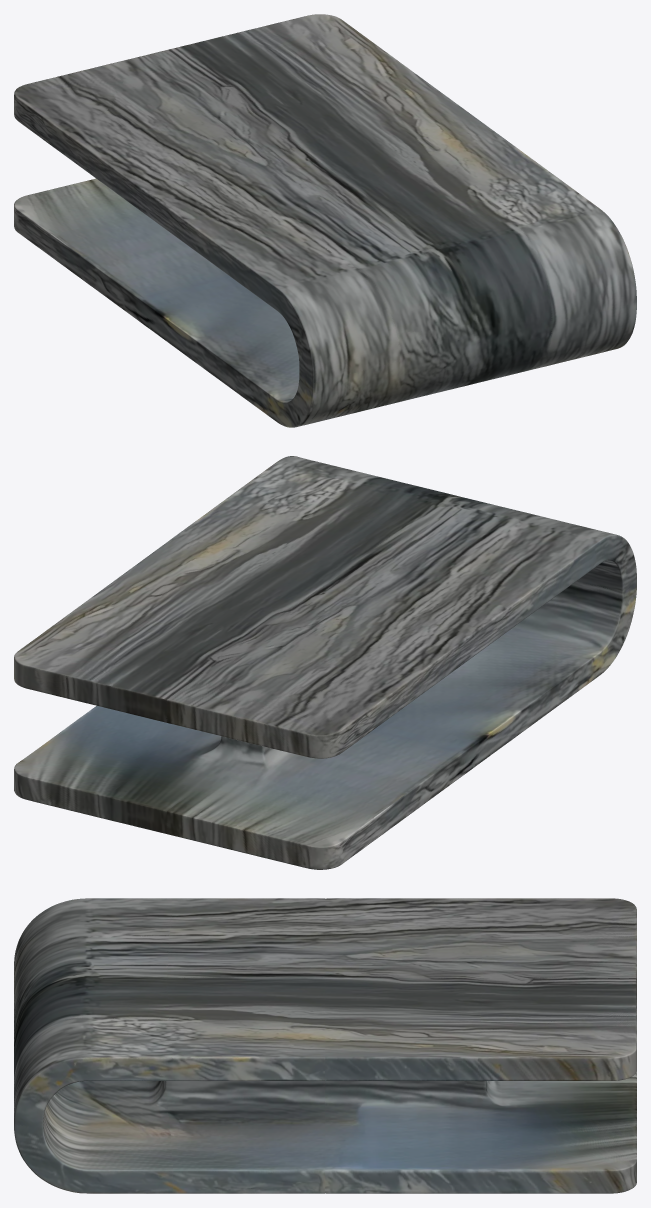
3 renders of one model, top to bottom at view 1: azimuth 30°, elevation 25°; view 2: azimuth 150°, elevation 25°; view 3: azimuth 270°, elevation 25°, orthographic.
Parts seen in each view (by area): view 1: tripo_node_7169eb4e-51c9-44cd-9dbc-513b9fd8d472; view 2: tripo_node_7169eb4e-51c9-44cd-9dbc-513b9fd8d472; view 3: tripo_node_7169eb4e-51c9-44cd-9dbc-513b9fd8d472.
Part boxes in pixels (<box>): tripo_node_7169eb4e-51c9-44cd-9dbc-513b9fd8d472: <box>14,14,636,427</box>; tripo_node_7169eb4e-51c9-44cd-9dbc-513b9fd8d472: <box>14,456,636,869</box>; tripo_node_7169eb4e-51c9-44cd-9dbc-513b9fd8d472: <box>14,898,636,1193</box>.
Bounding box in the file's own units: 0.6076 × 0.2413 × 1.
1 material, 1 textured.
